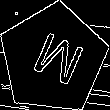M_SW: (22, 26, 84, 91)
